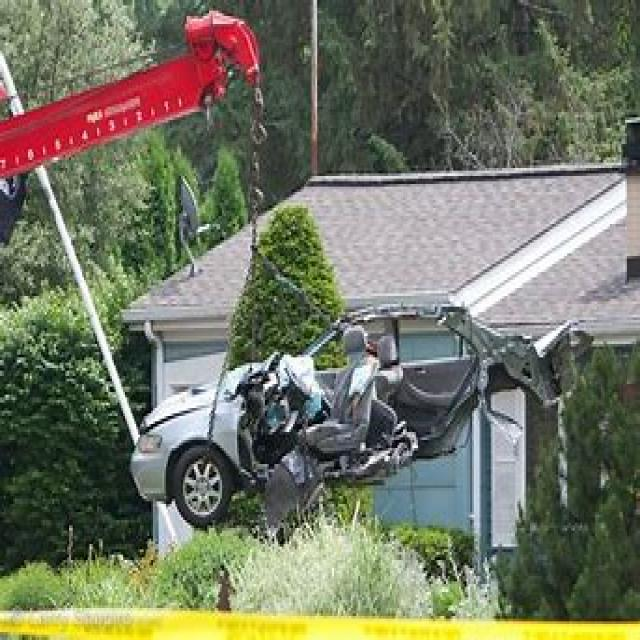Accident: (90, 77, 571, 601)
